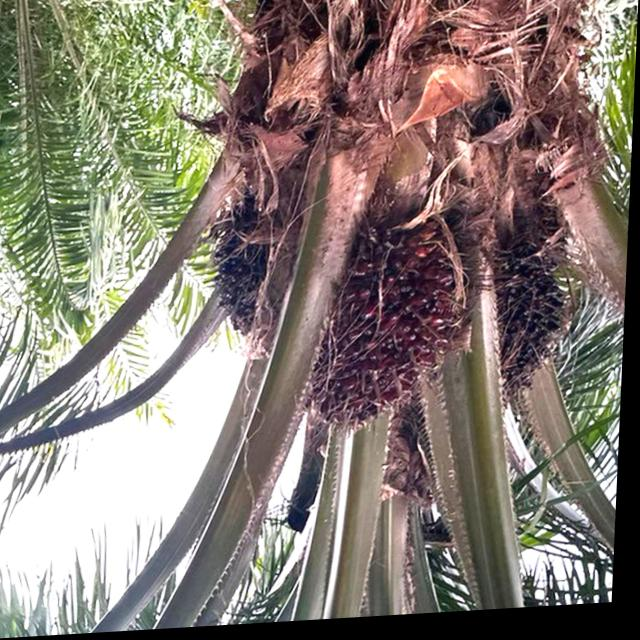ripe: (308, 233, 471, 447), (475, 231, 576, 427), (207, 210, 267, 347)
